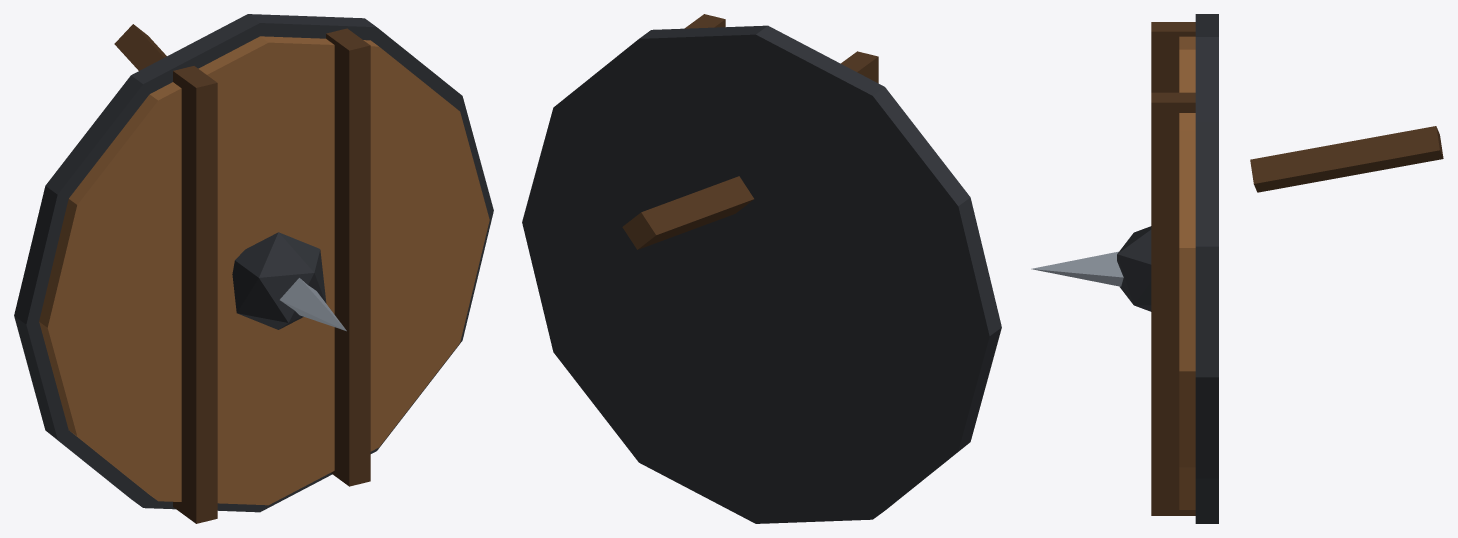
The model's file is ShieldBoard.obj.
The picture shows the model from 3 angles, left to right: view 1: azimuth 30°, elevation 25°; view 2: azimuth 150°, elevation 25°; view 3: azimuth 270°, elevation 25°; orthographic projection. The views are drawn at different scales.
Parts seen in each view (by area): view 1: ShieldBoard; view 2: ShieldBoard; view 3: ShieldBoard.
Boxes of the visible parts, x1=… form: ShieldBoard: x1=14, y1=14, x2=493, y2=523; ShieldBoard: x1=522, y1=14, x2=1001, y2=523; ShieldBoard: x1=1031, y1=14, x2=1443, y2=523.
Bounding box in the file's own units: 1.1 × 1.1 × 0.8878.
